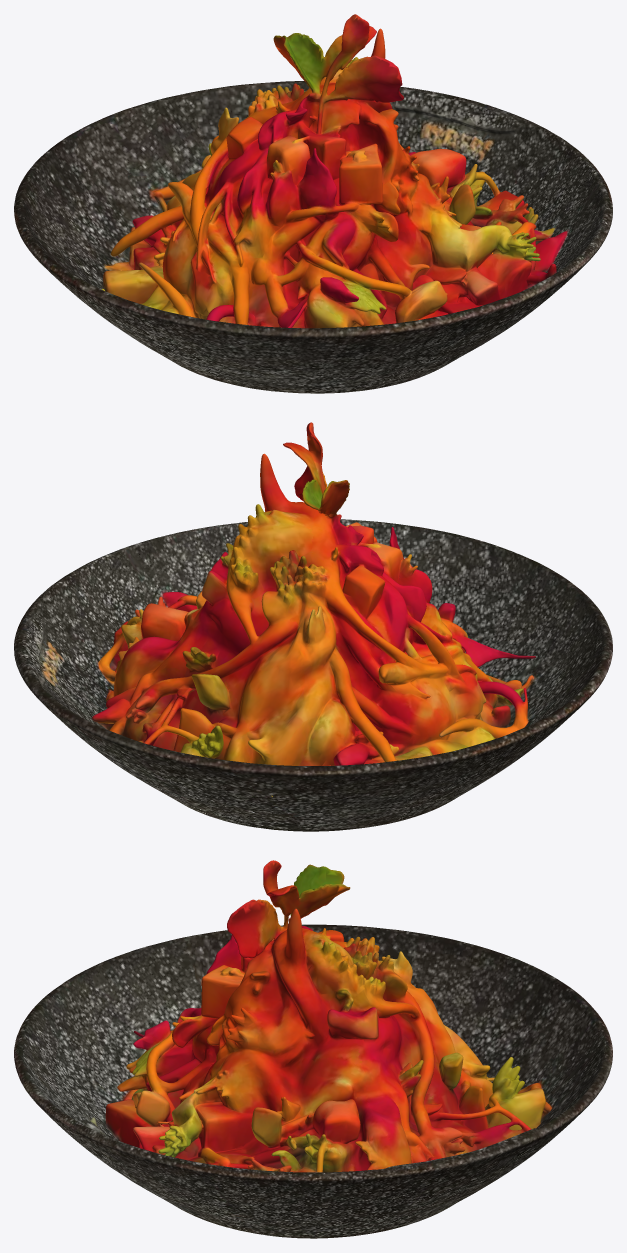
File: veg-plate.glb
3 views of the same model, one above another, from view 1: azimuth 30°, elevation 25°; view 2: azimuth 150°, elevation 25°; view 3: azimuth 270°, elevation 25° (orthographic).
Parts seen in each view (by area): view 1: tripo_node_657240c7-ac49-4e66-8bc2-af25a2e19047; view 2: tripo_node_657240c7-ac49-4e66-8bc2-af25a2e19047; view 3: tripo_node_657240c7-ac49-4e66-8bc2-af25a2e19047.
Part boxes in pixels (x1,y1,x2,y2): tripo_node_657240c7-ac49-4e66-8bc2-af25a2e19047: (14,14,612,393); tripo_node_657240c7-ac49-4e66-8bc2-af25a2e19047: (14,422,612,831); tripo_node_657240c7-ac49-4e66-8bc2-af25a2e19047: (14,860,612,1238).
Bounding box in the file's own units: 0.9788 × 0.5785 × 0.9789.
Materials: 1 (1 with a texture image).
